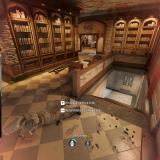Character: (0, 97, 82, 140), (85, 39, 89, 48), (82, 39, 85, 50)
Head: (3, 117, 21, 136), (88, 39, 89, 41), (82, 40, 84, 41)
